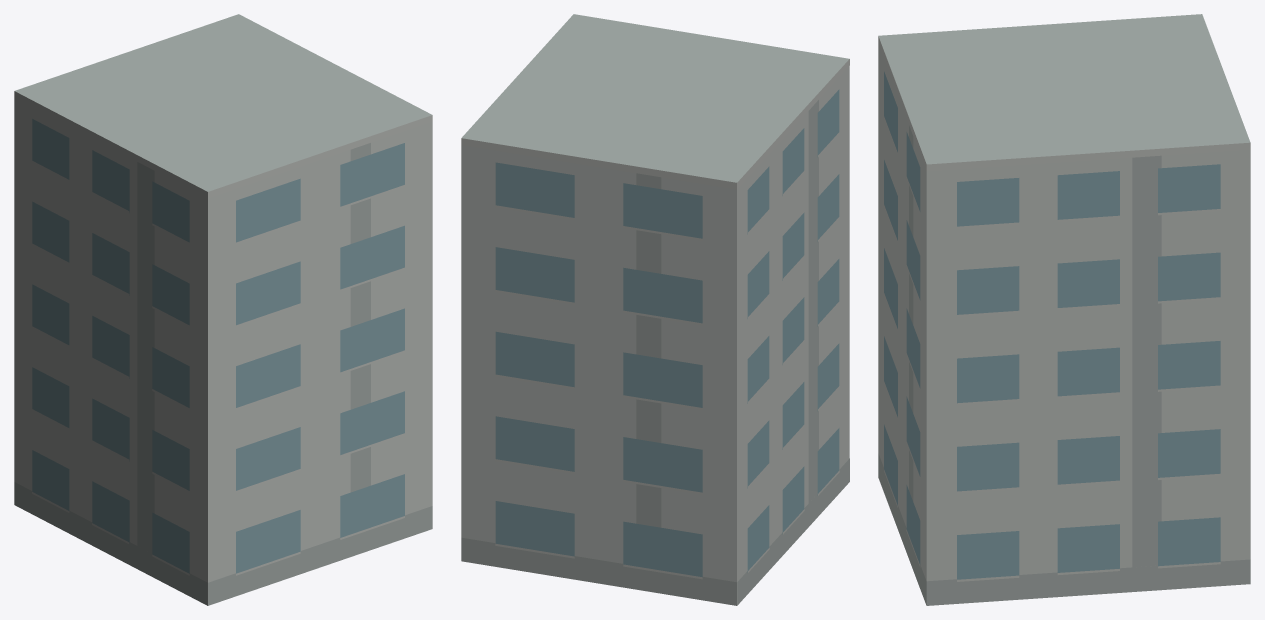
The model's file is residential-f7e91e50-fdea-4ff7-b746-221d0dc24a6a.glb.
The picture shows the model from 3 angles, left to right: view 1: azimuth 30°, elevation 25°; view 2: azimuth 150°, elevation 25°; view 3: azimuth 270°, elevation 25°; orthographic projection. The views are drawn at different scales.
Parts seen in each view (by area): view 1: residential-f7e91e50-fdea-4ff7-b746-221d0dc24a6a.tmp; view 2: residential-f7e91e50-fdea-4ff7-b746-221d0dc24a6a.tmp; view 3: residential-f7e91e50-fdea-4ff7-b746-221d0dc24a6a.tmp.
Part boxes in pixels (<box>): residential-f7e91e50-fdea-4ff7-b746-221d0dc24a6a.tmp: <box>14,14,432,605</box>; residential-f7e91e50-fdea-4ff7-b746-221d0dc24a6a.tmp: <box>461,14,849,605</box>; residential-f7e91e50-fdea-4ff7-b746-221d0dc24a6a.tmp: <box>878,14,1250,605</box>.
Size of the model in its own units: 11.16 by 15.25 by 11.67.
